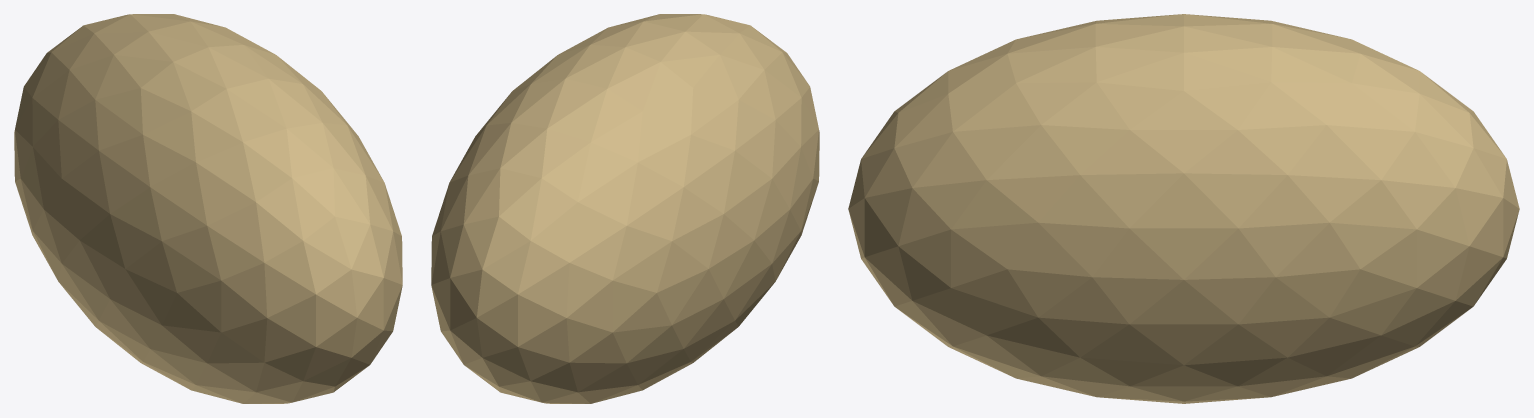
File: Nose.glb
The picture shows the model from 3 angles, left to right: view 1: azimuth 30°, elevation 25°; view 2: azimuth 150°, elevation 25°; view 3: azimuth 270°, elevation 25°; orthographic projection. The views are drawn at different scales.
Parts seen in each view (by area): view 1: geometry_0; view 2: geometry_0; view 3: geometry_0.
Boxes of the visible parts, left/top/right/bottom form: geometry_0: left=14, top=14, right=402, bottom=403; geometry_0: left=431, top=14, right=819, bottom=403; geometry_0: left=848, top=14, right=1519, bottom=403.
Bounding box in the file's own units: 0.1 × 0.12 × 0.2.
